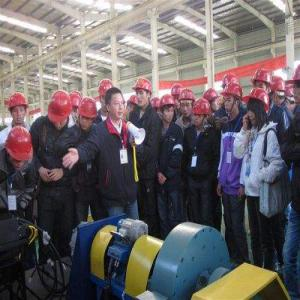none: (106, 88, 125, 120)
red: (7, 128, 34, 172), (245, 87, 271, 126), (48, 91, 71, 130), (222, 84, 243, 116), (192, 97, 212, 129), (135, 75, 152, 109), (10, 95, 28, 127), (80, 99, 98, 131), (252, 70, 273, 96), (270, 75, 287, 107), (160, 95, 176, 125), (181, 89, 196, 119), (100, 81, 114, 112), (205, 89, 221, 115), (70, 92, 83, 121), (171, 84, 183, 112), (126, 96, 139, 115)
